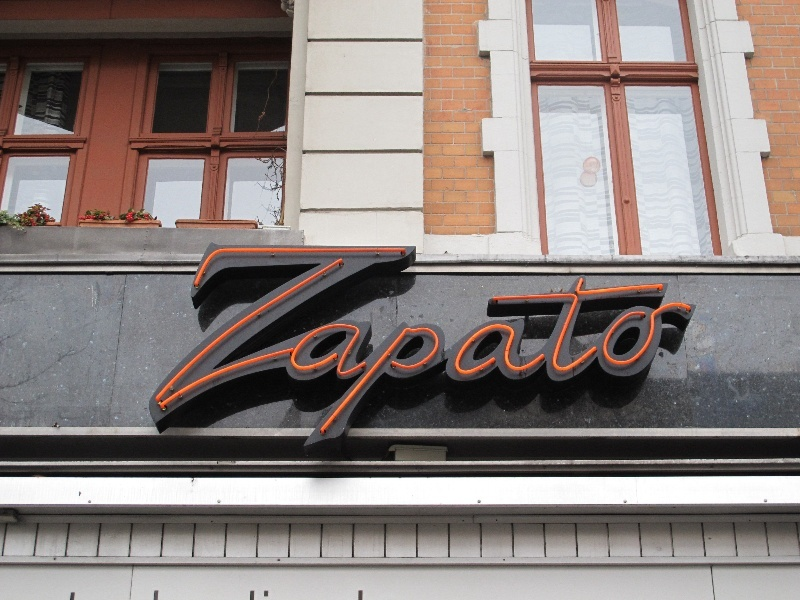text: (225, 244, 240, 443), (241, 244, 256, 443), (257, 244, 272, 443), (273, 244, 288, 443), (289, 244, 304, 443), (305, 244, 320, 443), (321, 244, 336, 443), (337, 244, 352, 443), (353, 244, 368, 443), (369, 244, 384, 443), (385, 244, 400, 443), (401, 244, 416, 443), (417, 244, 432, 443), (433, 244, 448, 443), (449, 244, 464, 443), (465, 244, 480, 443), (481, 244, 496, 443), (497, 244, 512, 443), (513, 244, 528, 443), (529, 244, 544, 443), (545, 244, 560, 443), (561, 244, 576, 443), (577, 244, 592, 443), (593, 244, 608, 443), (609, 244, 624, 443), (625, 244, 640, 443), (641, 244, 656, 443), (657, 244, 672, 443), (673, 244, 688, 443), (212, 244, 224, 443), (689, 244, 694, 443)
